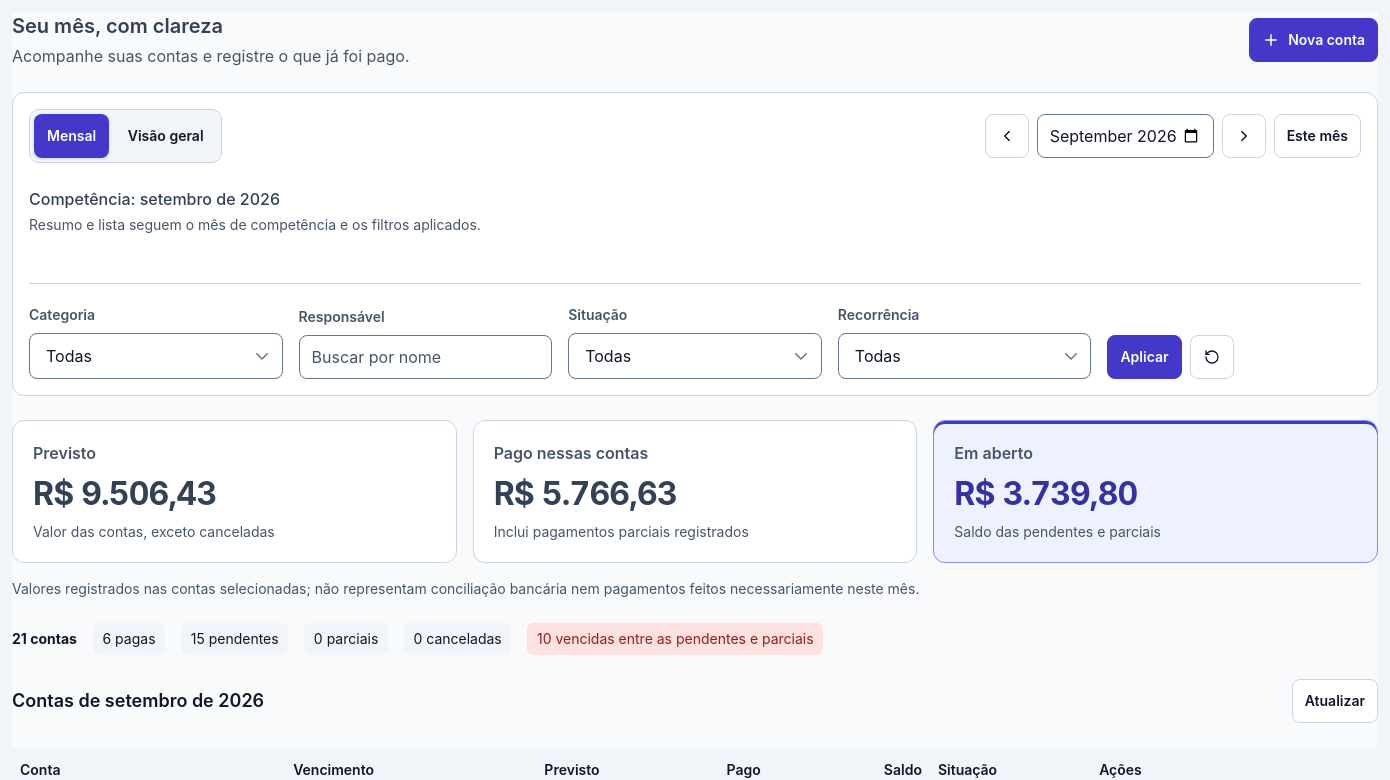
Test: FinancialExpensesPage integration › visão geral retira competência da consulta mantendo mês de referência
Click the button "Visão geral" at [166, 136], box 115,114 -> 217,158
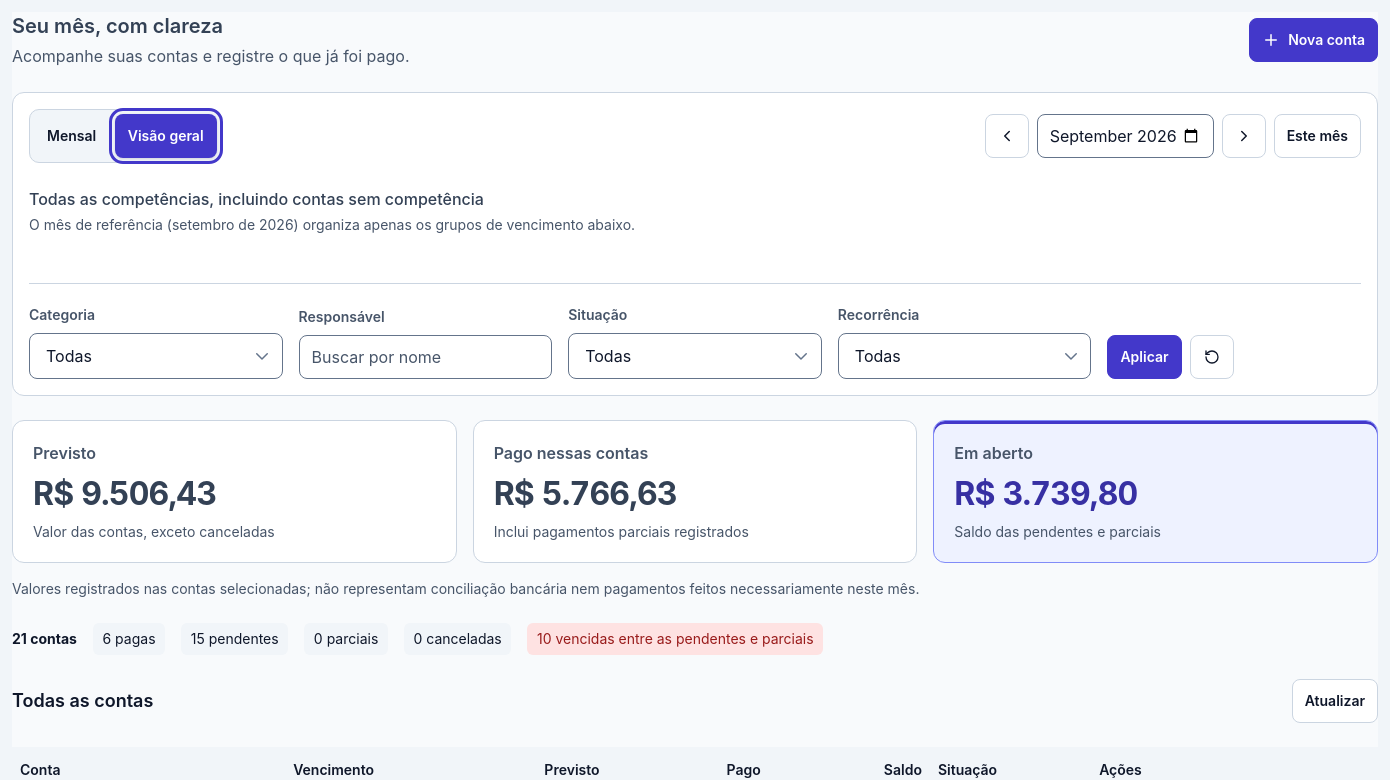
Now the text "Todas as competências, incluindo contas sem competência" is shown, box 29,189 -> 484,209
